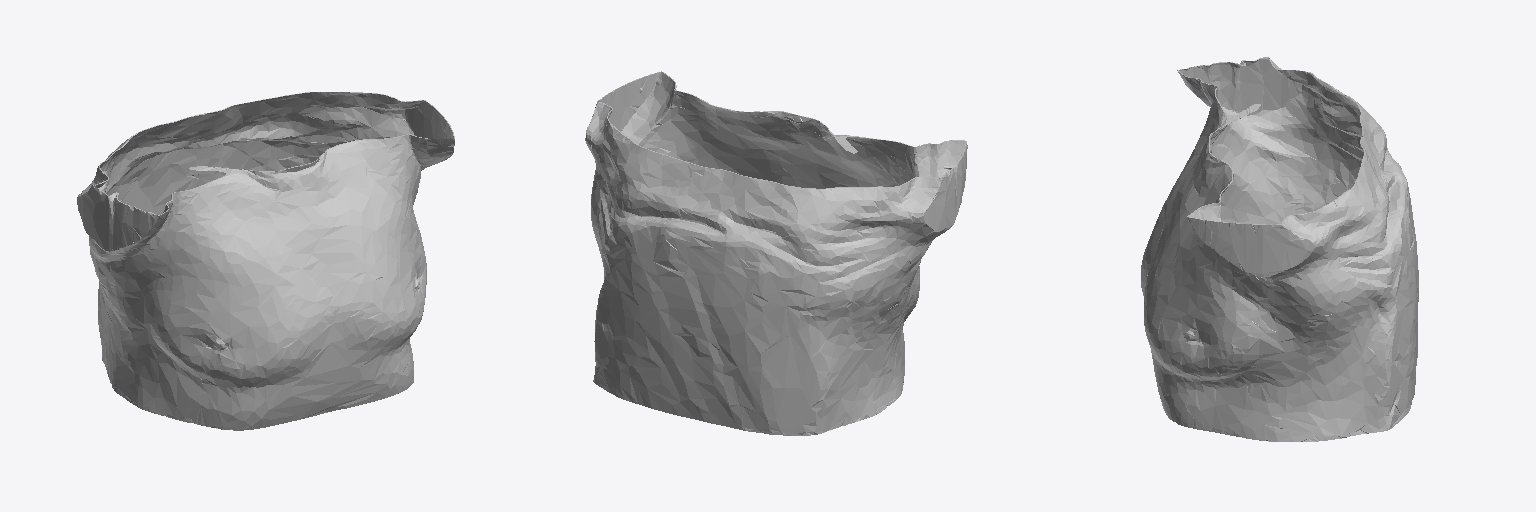
3 views of the same model, side by side, from view 1: azimuth 30°, elevation 25°; view 2: azimuth 150°, elevation 25°; view 3: azimuth 270°, elevation 25° (orthographic).
Parts seen in each view (by area): view 1: Polygonal_Model_9_Triangles_0; view 2: Polygonal_Model_9_Triangles_0; view 3: Polygonal_Model_9_Triangles_0.
Boxes of the visible parts, <box> form: Polygonal_Model_9_Triangles_0: <box>77,92,454,430</box>; Polygonal_Model_9_Triangles_0: <box>585,71,967,435</box>; Polygonal_Model_9_Triangles_0: <box>1141,57,1418,441</box>.
Size of the model in its own units: 15.29 by 10.06 by 10.84.